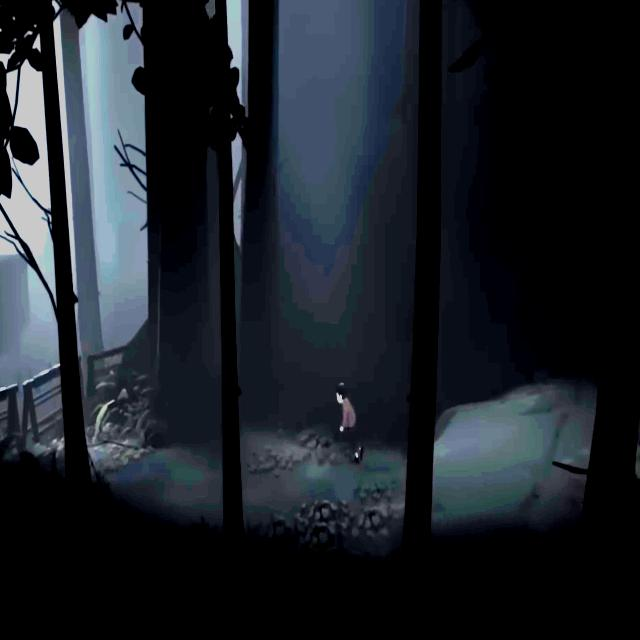boy: (336, 382, 363, 463)
